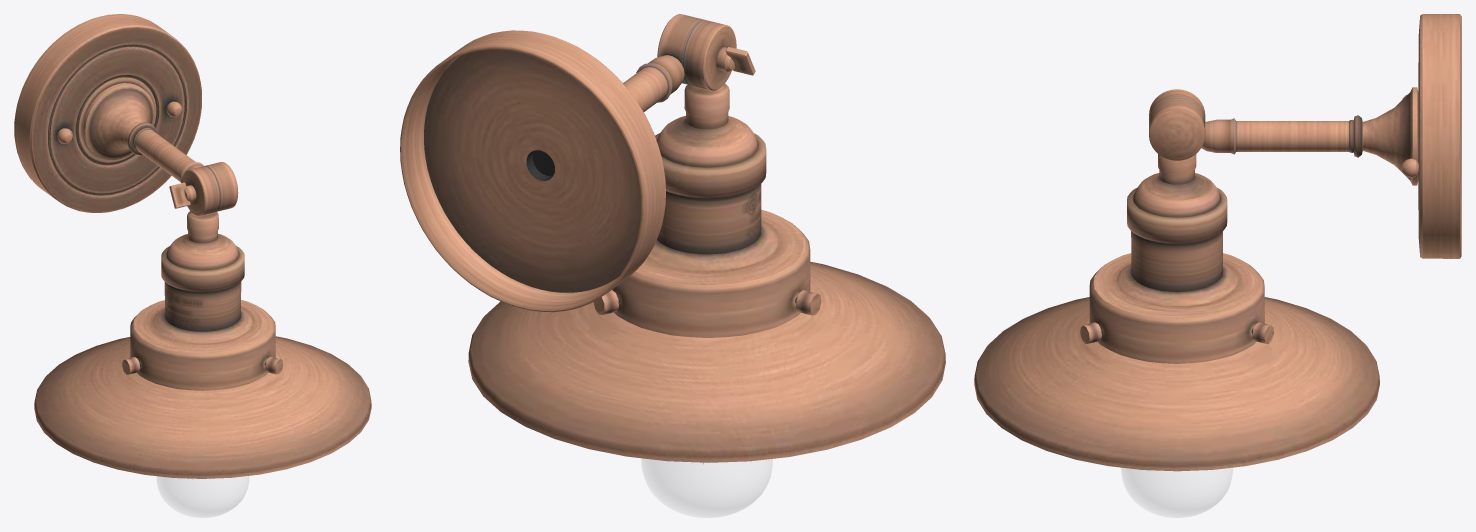
Rendered from lamp_barn.glb.
The picture shows the model from 3 angles, left to right: view 1: azimuth 30°, elevation 25°; view 2: azimuth 150°, elevation 25°; view 3: azimuth 270°, elevation 25°; orthographic projection. The views are drawn at different scales.
Visible parts, largest first — view 1: lamp, lamp glass; view 2: lamp, lamp glass; view 3: lamp, lamp glass.
Boxes of the visible parts, x1=… form: lamp: x1=14, y1=14, x2=371, y2=479; lamp glass: x1=157, y1=476, x2=249, y2=517; lamp: x1=400, y1=14, x2=945, y2=464; lamp glass: x1=641, y1=458, x2=772, y2=517; lamp: x1=974, y1=14, x2=1461, y2=471; lamp glass: x1=1121, y1=468, x2=1232, y2=517.
Bounding box in the file's own units: 0.1908 × 0.2552 × 0.2265.
Materials: 3 (1 with a texture image).
